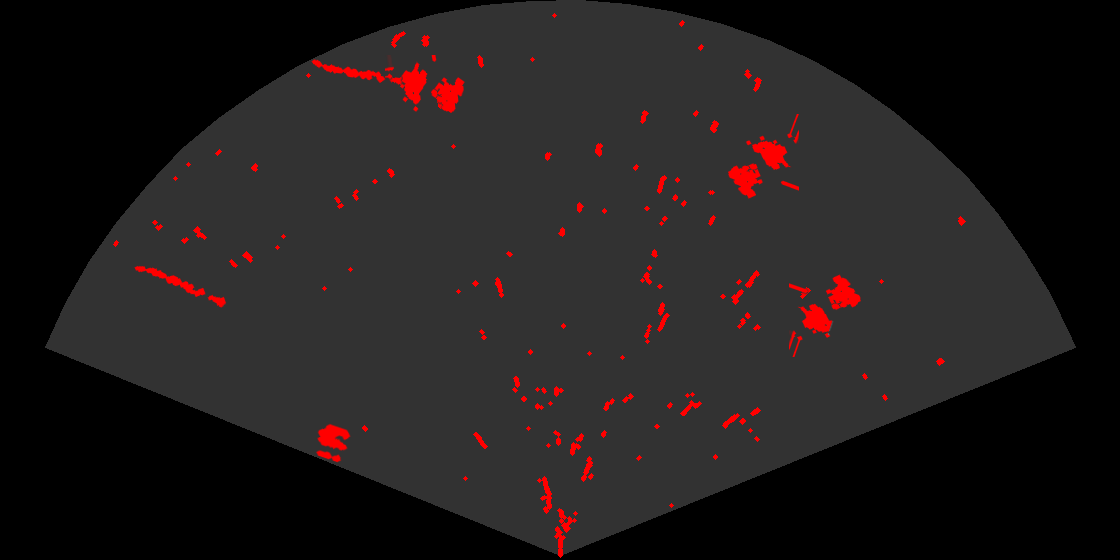ball: (315, 422, 352, 464)
cage: (727, 114, 799, 200), (789, 273, 862, 357), (385, 55, 466, 114)
chain: (133, 264, 228, 309), (310, 58, 410, 89)
